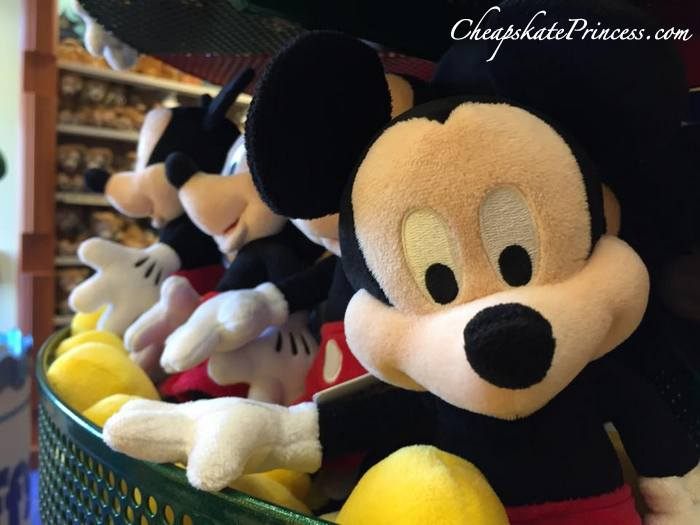Mickey: (241, 20, 660, 423)
